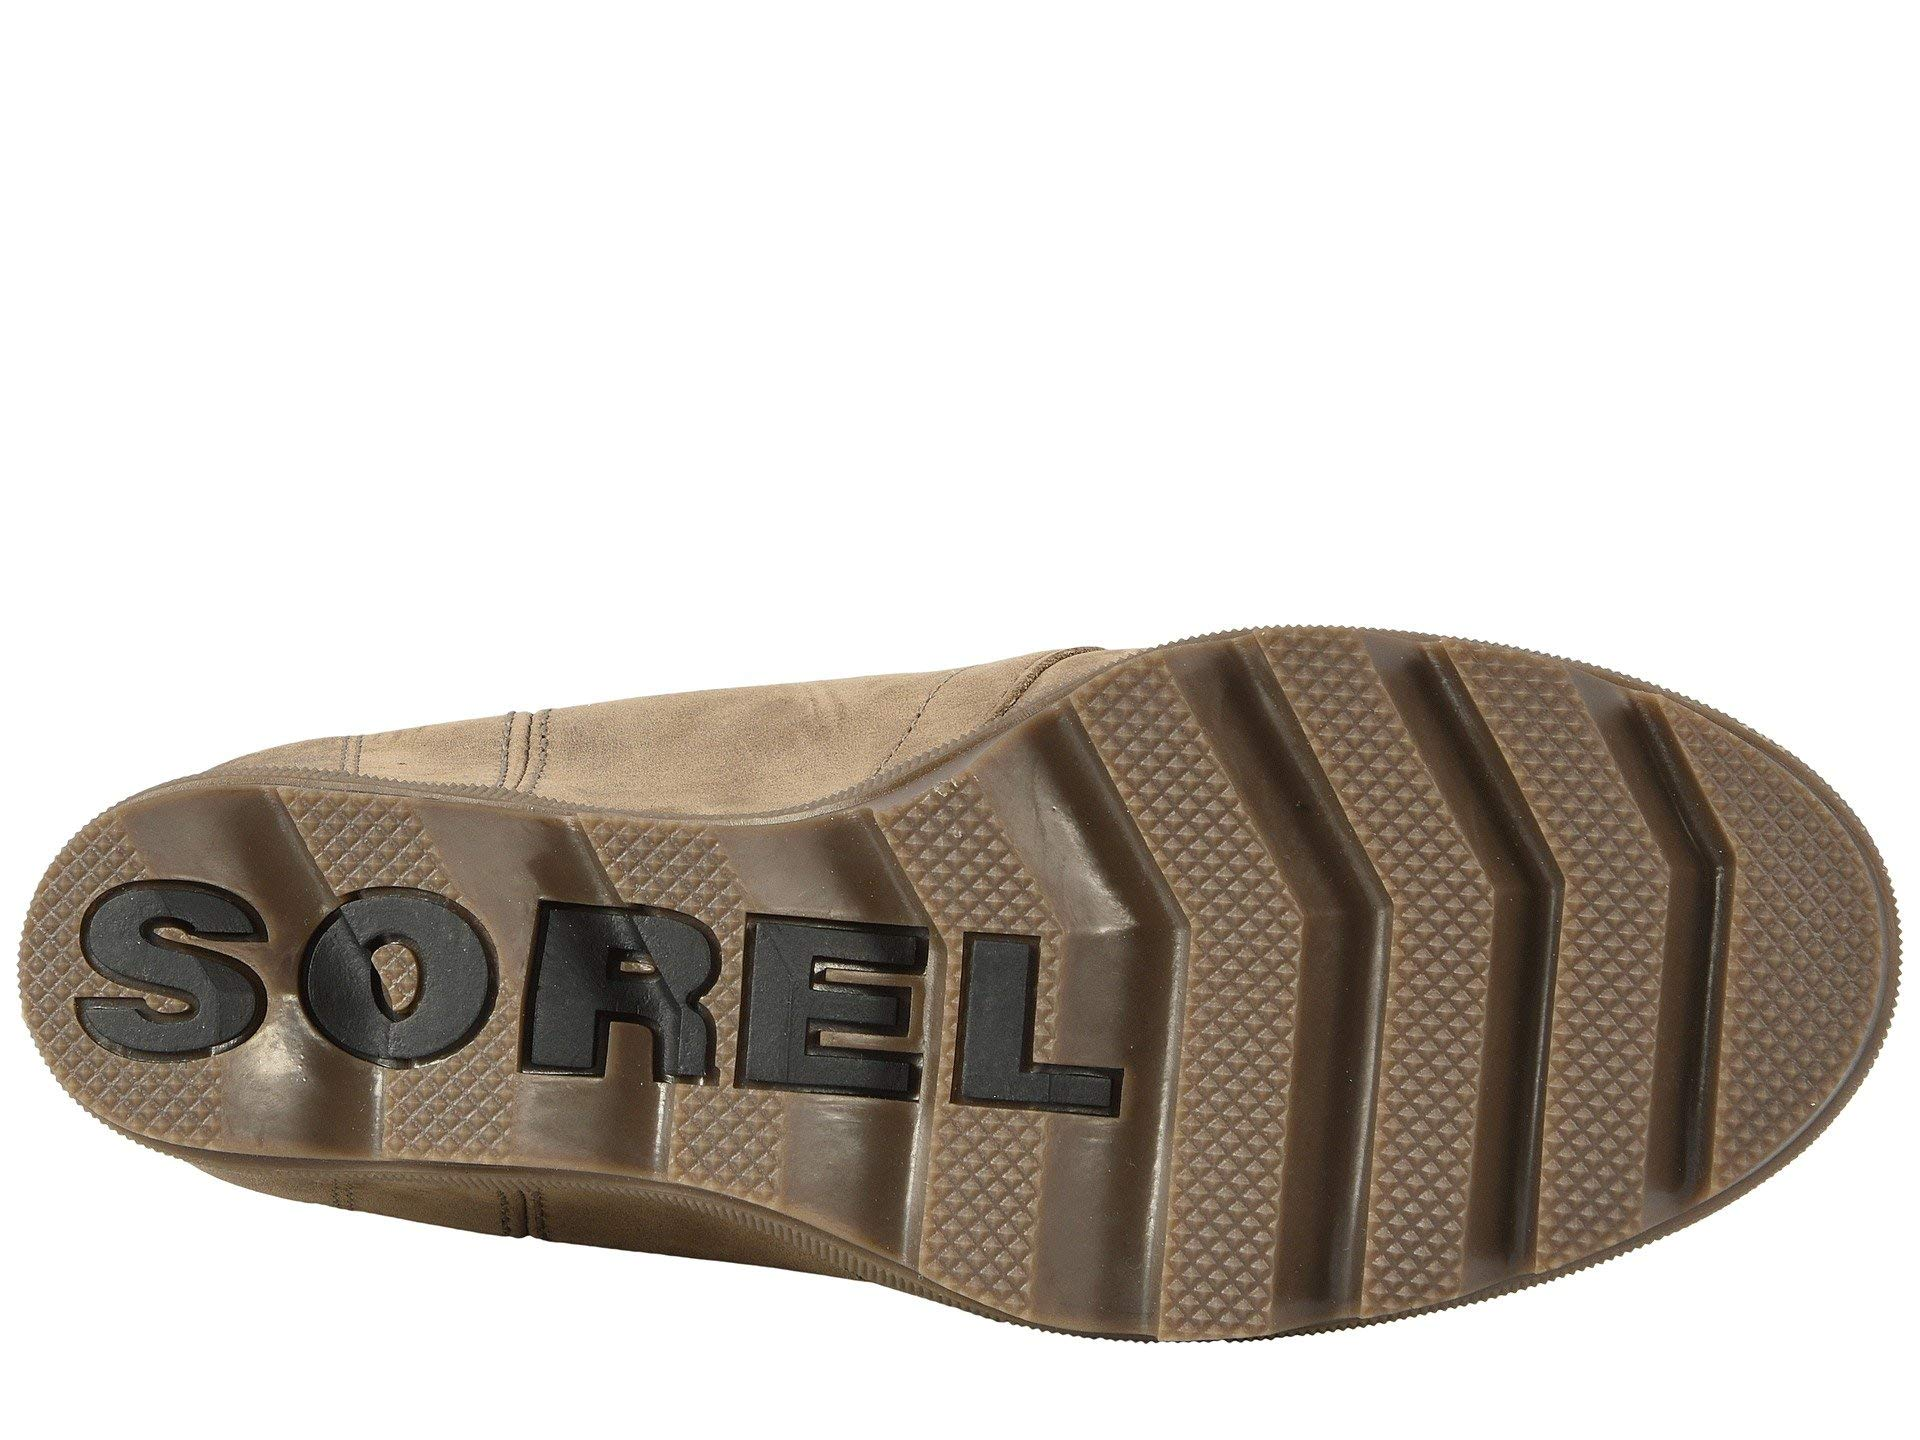chevron: (1092, 678, 1730, 1263)
circle: (76, 830, 1120, 1206)
quad: (76, 830, 1120, 1206), (1092, 678, 1730, 1263), (1745, 811, 1853, 1050)
text: (76, 830, 1120, 1206)
